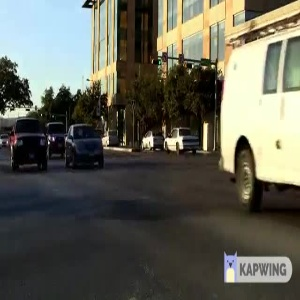car: (61, 120, 105, 172)
suv: (6, 115, 51, 175)
